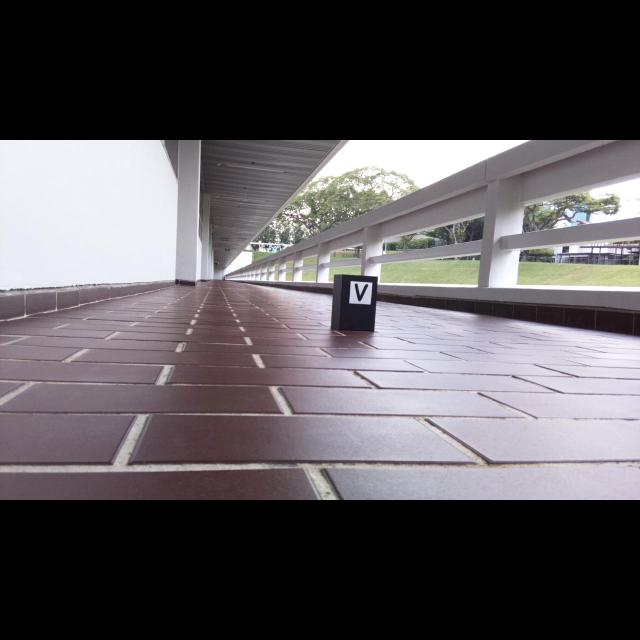V: (354, 283, 369, 302)
